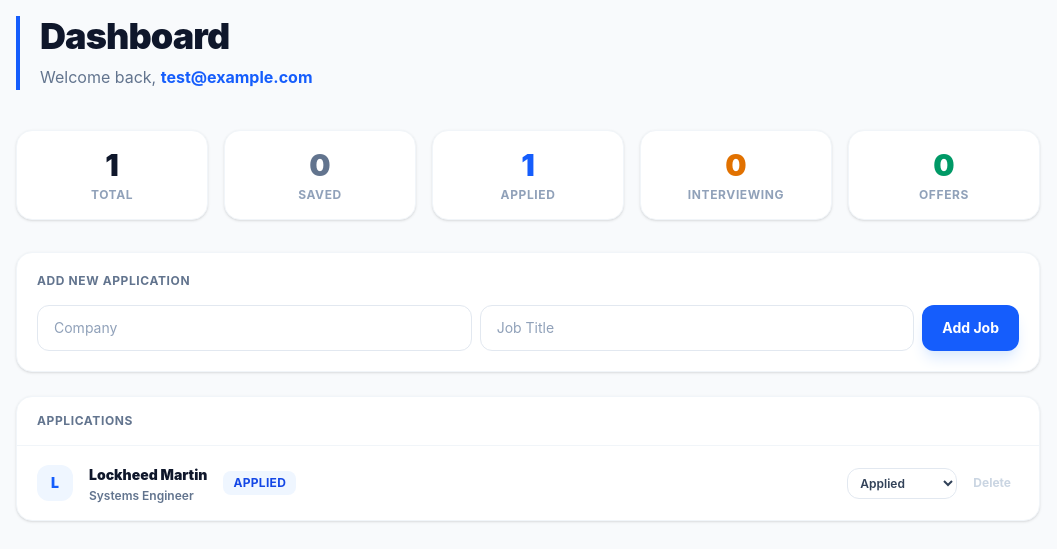
DashboardPage › removes a job from the list after the Delete button is clicked
Expected: the link "Lockheed Martin" is shown, [89, 466, 208, 483]
Click the button "Delete": (992, 483) [965, 469, 1019, 497]
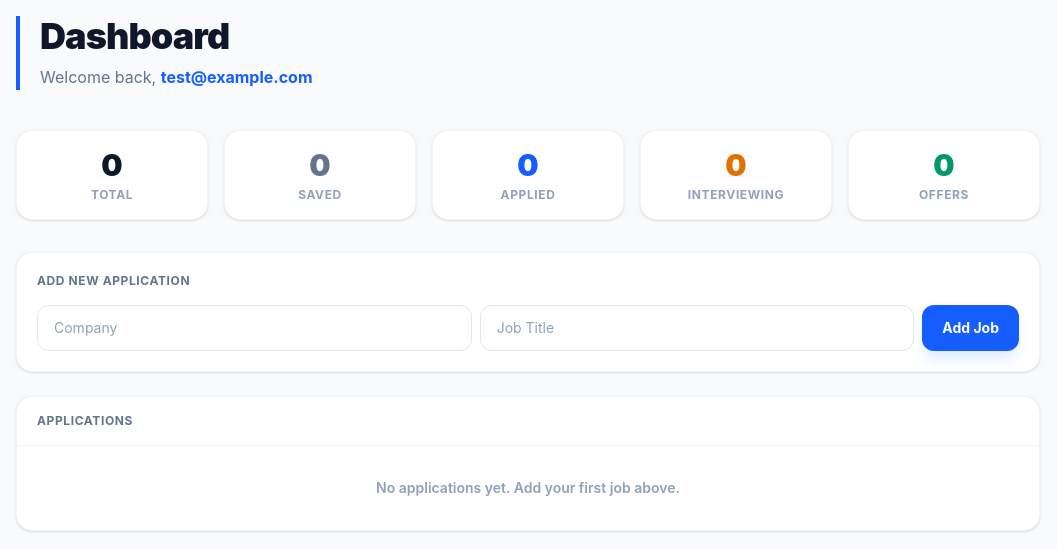
Result: the link "Lockheed Martin" is gone
